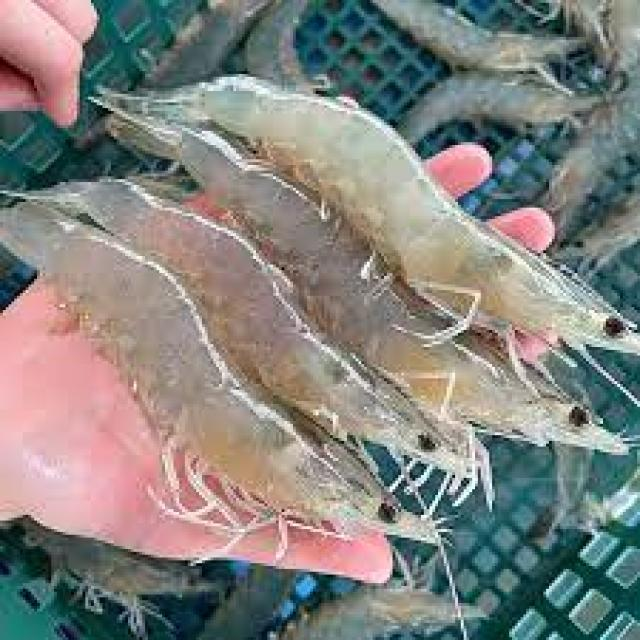shrimp: (95, 103, 635, 457), (10, 176, 494, 511), (96, 70, 640, 359), (3, 200, 444, 550)
